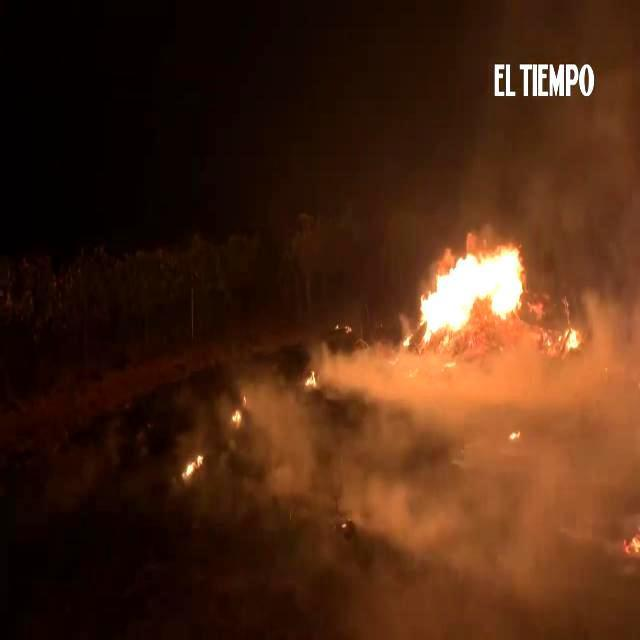Fire: (421, 238, 525, 336)
Smoke: (331, 343, 640, 621)
